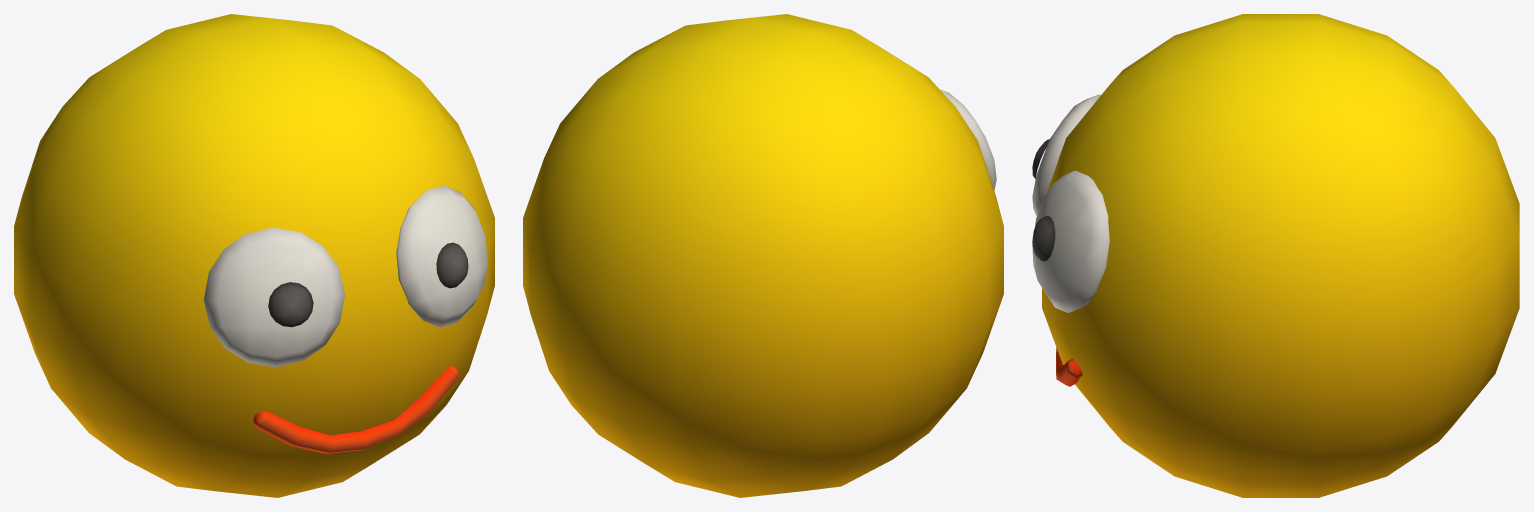
The model's file is smiley.glb.
3 renders of one model, left to right at view 1: azimuth 30°, elevation 25°; view 2: azimuth 150°, elevation 25°; view 3: azimuth 270°, elevation 25°, orthographic.
Parts seen in each view (by area): view 1: smiley3; view 2: smiley3; view 3: smiley3.
Boxes of the visible parts, x1,y1,x2,y2 form: smiley3: (14,14,494,497); smiley3: (523,14,1003,497); smiley3: (1032,14,1519,497).
Bounding box in the file's own units: 0.098 × 0.098 × 0.1.
Materials: 1 (1 with a texture image).
